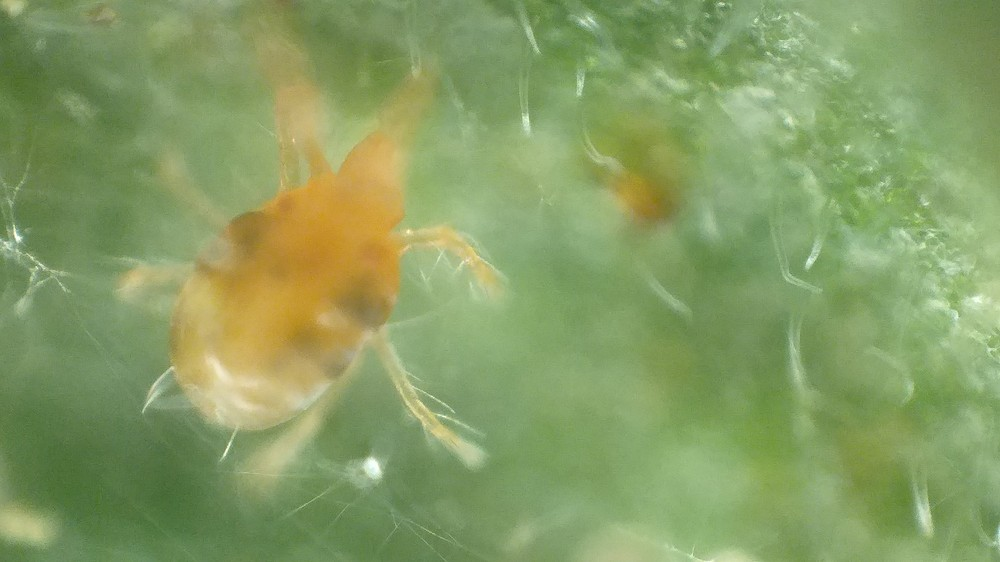Aracnido Rojo: (145, 26, 516, 484)
